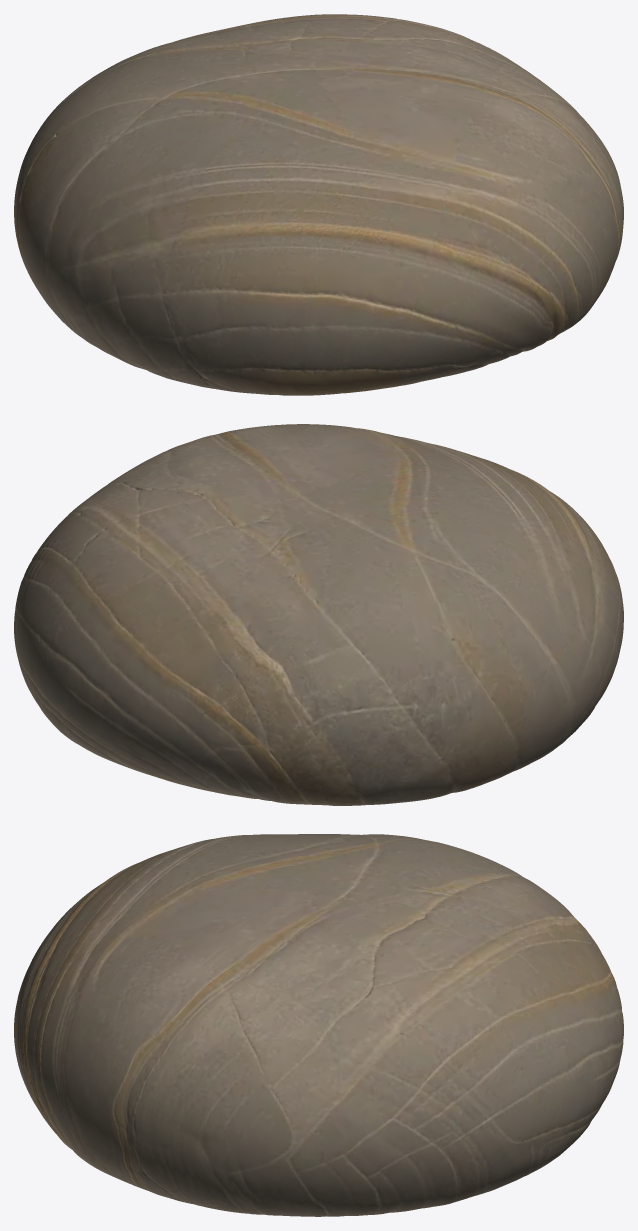
The model's file is Meshy_AI_small_rock_b_0823024920_image-to-3d-texture.glb.
The picture shows the model from 3 angles, top to bottom: view 1: azimuth 30°, elevation 25°; view 2: azimuth 150°, elevation 25°; view 3: azimuth 270°, elevation 25°; orthographic projection.
Parts seen in each view (by area): view 1: mesh_node; view 2: mesh_node; view 3: mesh_node.
Part boxes in pixels (box(x1,y1,x2,y2)): mesh_node: box(14, 14, 623, 395); mesh_node: box(14, 424, 623, 805); mesh_node: box(14, 834, 623, 1216).
Bounding box in the file's own units: 1.9 × 0.779 × 1.9.
1 material, 1 textured.
